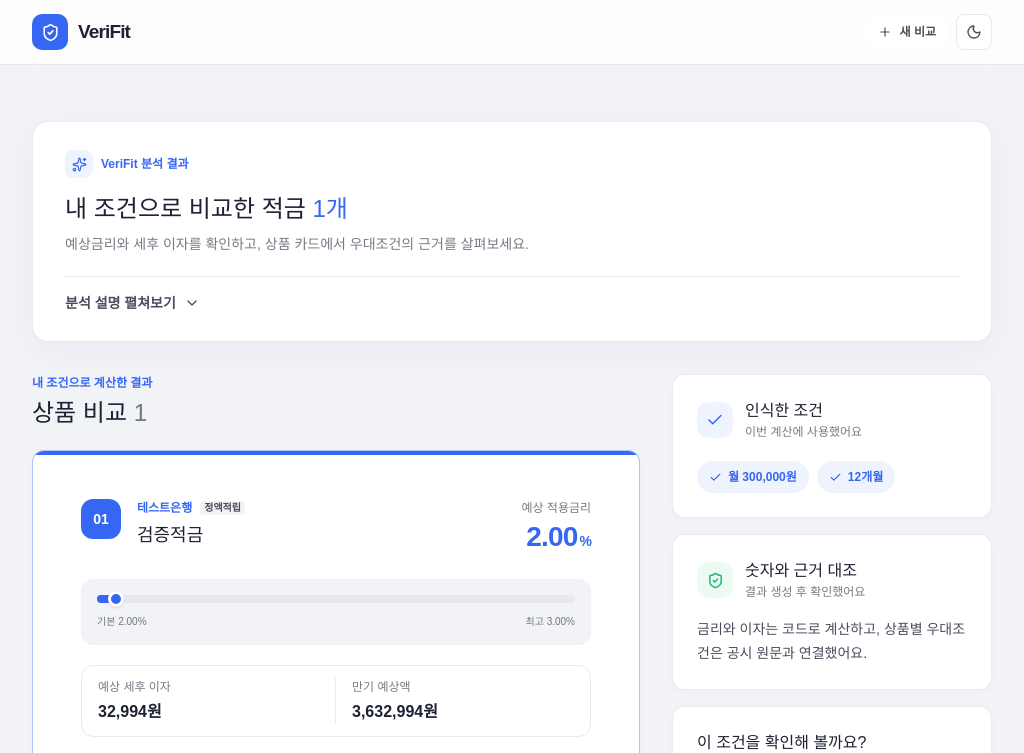
Test case: VeriFit 사용자 흐름 › 새로고침 후 서버 대화를 복원하고 새 비교에서 연결을 끊는다
Click the button "새 비교".
click(907, 32)  # box x1=866 y1=16 x2=948 y2=48
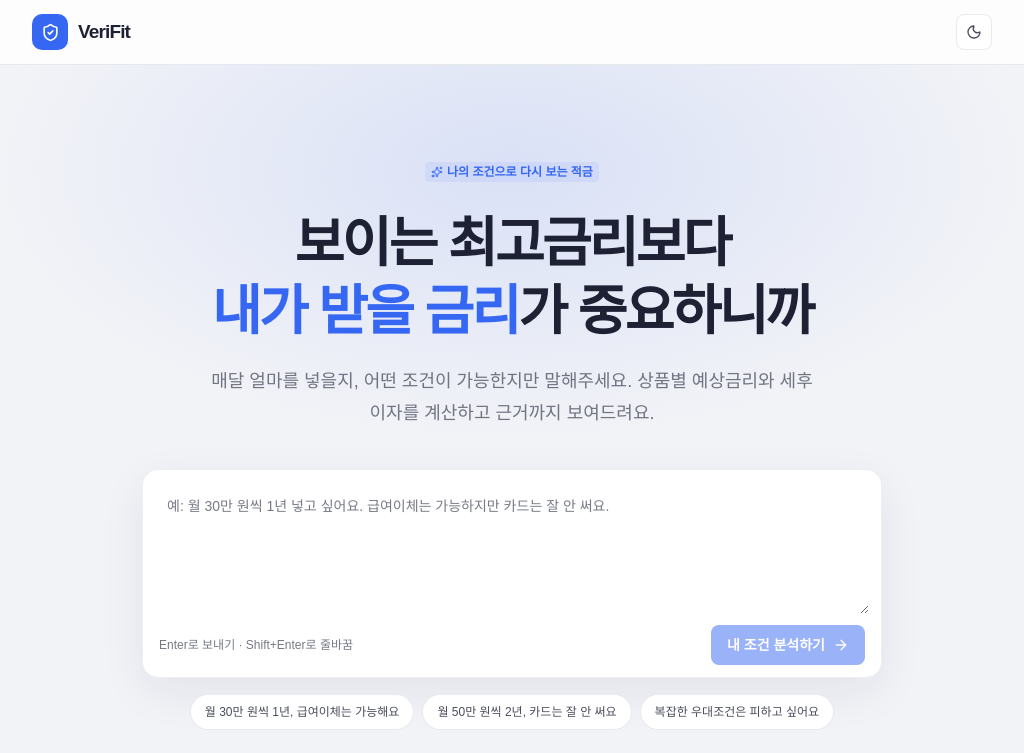
Check: the button "내 조건 분석하기" is shown, box x1=711 y1=625 x2=865 y2=665
